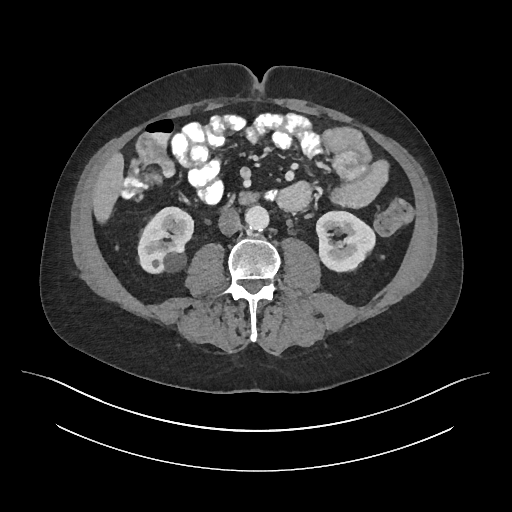Lesion: (160, 247, 191, 276)
